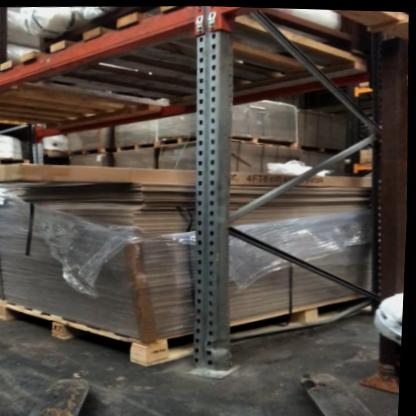vertical_damage: (187, 310, 250, 383)
